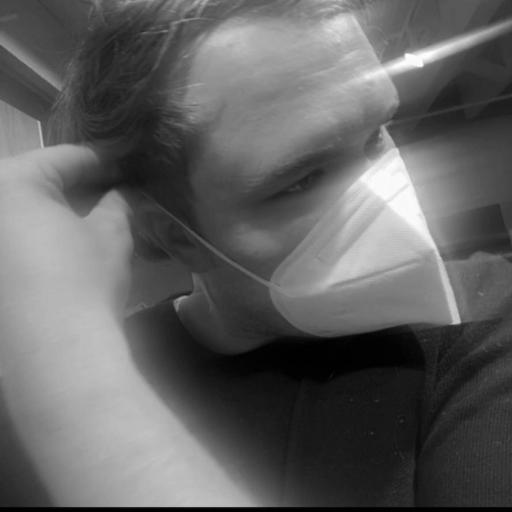mask: (67, 0, 473, 331)
